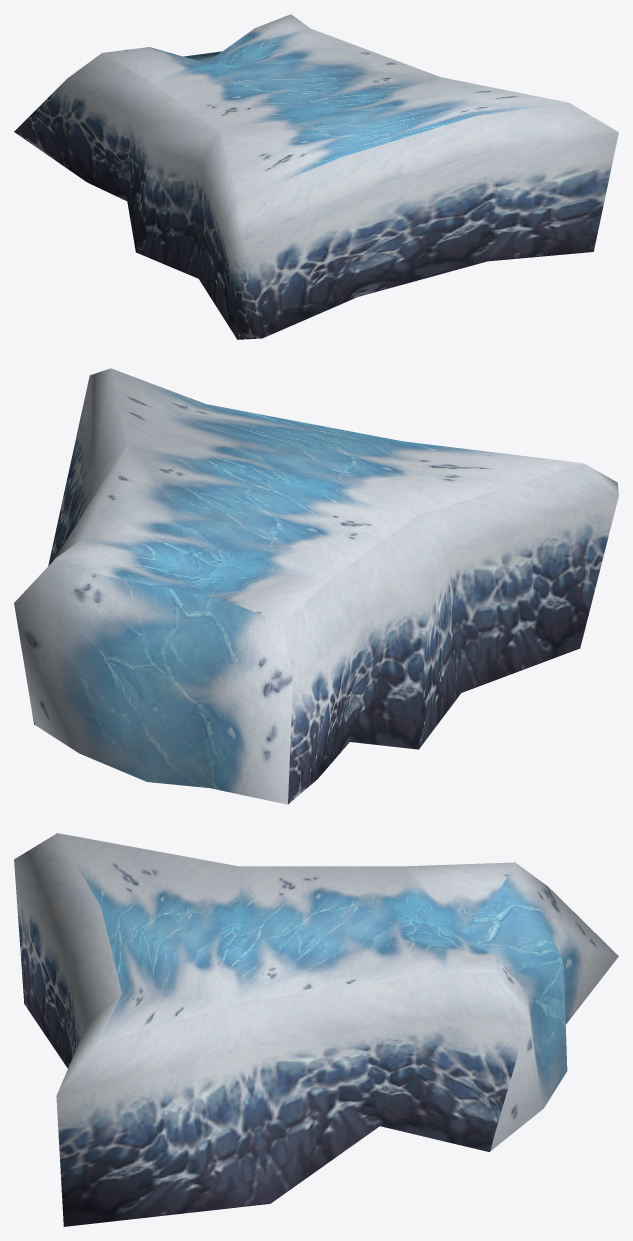
Rendered from bs_binshan_17.FBX.
The picture shows the model from 3 angles, top to bottom: view 1: azimuth 30°, elevation 25°; view 2: azimuth 150°, elevation 25°; view 3: azimuth 270°, elevation 25°; orthographic projection. The views are drawn at different scales.
Parts seen in each view (by area): view 1: bs_binshan_17; view 2: bs_binshan_17; view 3: bs_binshan_17.
Boxes of the visible parts, x1,y1,x2,y2 form: bs_binshan_17: (14, 14, 618, 339); bs_binshan_17: (14, 368, 618, 804); bs_binshan_17: (14, 833, 618, 1226).
Bounding box in the file's own units: 3441 × 1164 × 3619.
